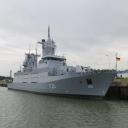Fragata: (7, 23, 119, 102)
